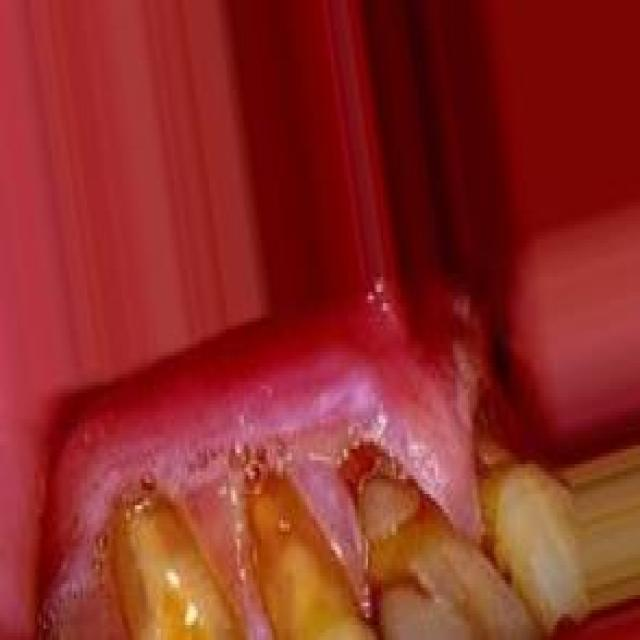caries: (347, 432, 456, 603)
